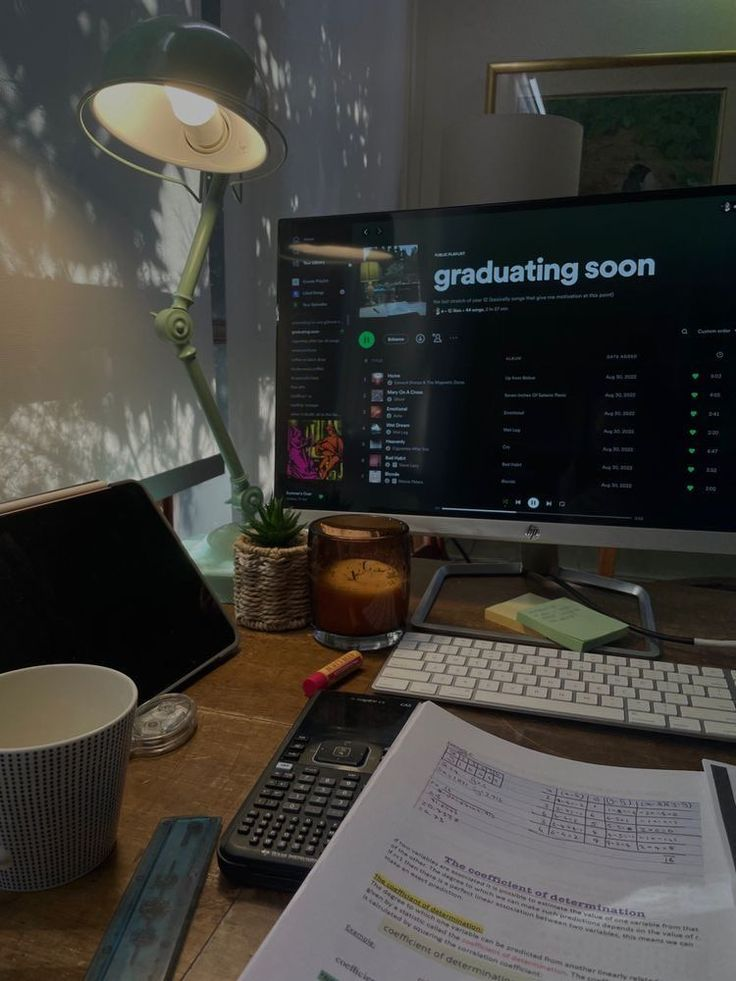not a gesture sign: (90, 93, 412, 431)
